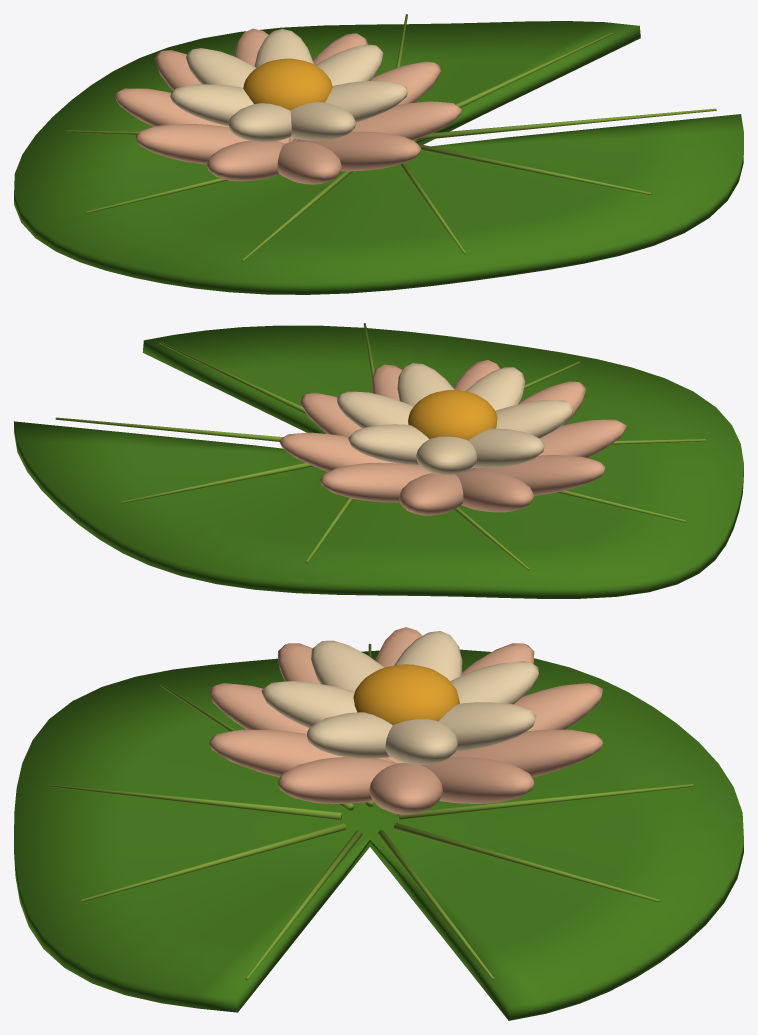
File: lotus_lily_pad.glb
The picture shows the model from 3 angles, top to bottom: view 1: azimuth 30°, elevation 25°; view 2: azimuth 150°, elevation 25°; view 3: azimuth 270°, elevation 25°; orthographic projection. The views are drawn at different scales.
Visible parts, largest first — view 1: NotchedLeaf, PollenHeart, Petal_0_5, Petal_0_8, Petal_0_9, Petal_0_6, Petal_1_3, Petal_1_6, Petal_0_7, Petal_0_4, Petal_1_5, Petal_1_4 (+13 smaller); view 2: NotchedLeaf, PollenHeart, Petal_0_2, Petal_0_5, Petal_0_4, Petal_0_1, Petal_0_6, Petal_1_1, Petal_1_3, Petal_0_3, Petal_1_4, Petal_1_0 (+11 smaller); view 3: NotchedLeaf, PollenHeart, Petal_0_9, Petal_0_2, Petal_0_1, Petal_0_8, Petal_1_1, Petal_1_6, Petal_1_5, Petal_0_0, Petal_1_2, Petal_0_3 (+13 smaller).
Boxes of the visible parts, x1,y1,x2,y2 form: NotchedLeaf: (14, 21, 743, 294); PollenHeart: (243, 58, 332, 110); Petal_0_5: (135, 124, 277, 164); Petal_0_8: (298, 131, 421, 171); Petal_0_9: (296, 101, 461, 141); Petal_0_6: (207, 140, 285, 181); Petal_1_3: (170, 84, 253, 126); Petal_1_6: (325, 80, 408, 122); Petal_0_7: (277, 141, 341, 184); Petal_0_4: (114, 88, 282, 142); Petal_1_5: (290, 102, 356, 140); Petal_1_4: (228, 103, 291, 141); NotchedLeaf: (14, 325, 743, 598); PollenHeart: (408, 390, 497, 440); Petal_0_2: (320, 462, 431, 502); Petal_0_5: (463, 455, 605, 495); Petal_0_4: (456, 471, 533, 512); Petal_0_1: (279, 432, 420, 471); Petal_0_6: (461, 419, 626, 472); Petal_1_1: (348, 424, 428, 465); Petal_1_3: (469, 428, 544, 467); Petal_0_3: (399, 473, 463, 515); Petal_1_4: (495, 400, 573, 438); Petal_1_0: (337, 391, 413, 428); NotchedLeaf: (14, 649, 743, 1020); PollenHeart: (353, 664, 459, 725); Petal_0_9: (278, 757, 397, 803); Petal_0_2: (450, 729, 602, 777); Petal_0_1: (421, 757, 534, 803); Petal_0_8: (209, 729, 394, 777); Petal_1_1: (438, 702, 536, 751); Petal_1_6: (307, 712, 392, 758); Petal_1_5: (261, 681, 356, 728); Petal_0_0: (369, 763, 442, 814); Petal_1_2: (450, 661, 538, 704); Petal_0_3: (514, 683, 602, 731).
Size of the model in its own units: 1.96 by 0.335 by 1.62.
